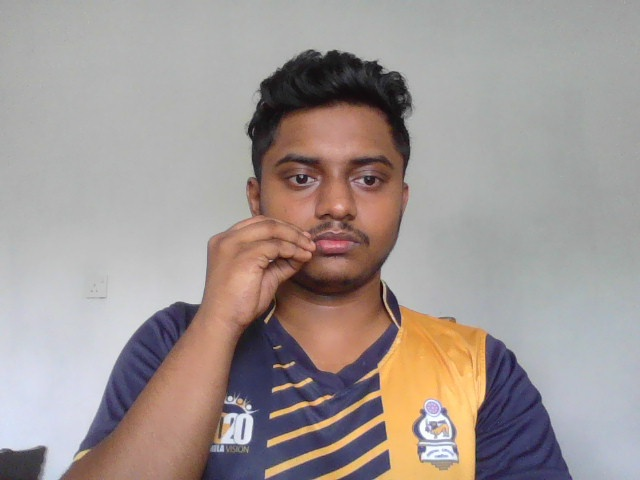Eat: (203, 213, 318, 329)
